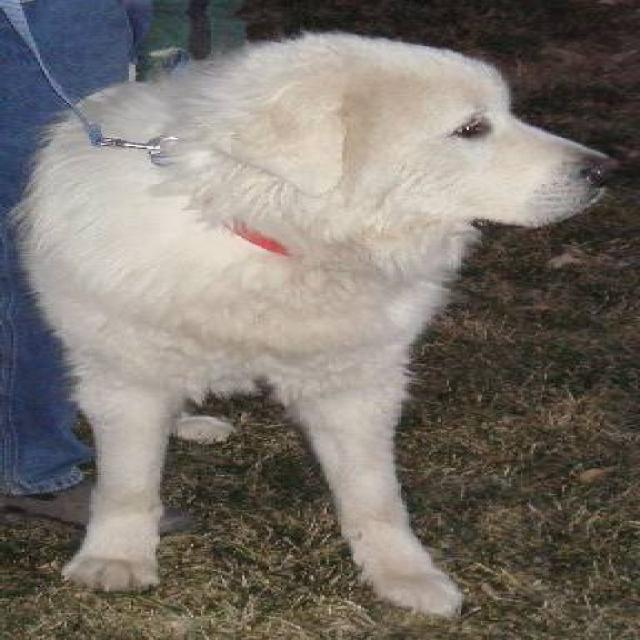dog: (7, 28, 620, 620)
